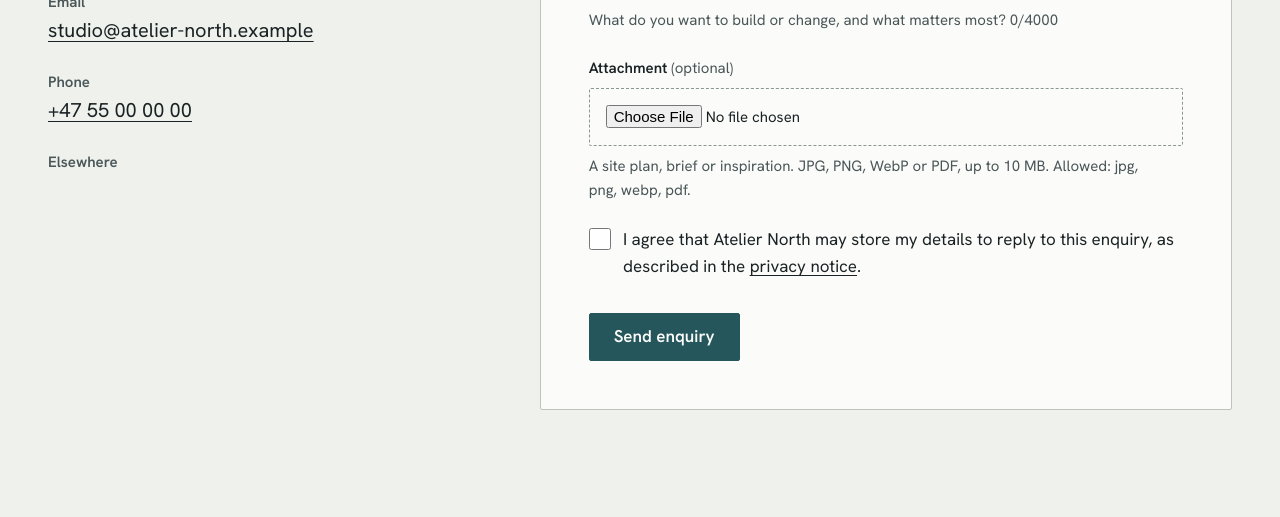
Test: Contact form › shows an error summary, marks fields invalid and focuses the summary on empty submit
(page scrolled)
Click the button "Send enquiry".
click(664, 337)  # box [589,313,740,361]
(page scrolled)
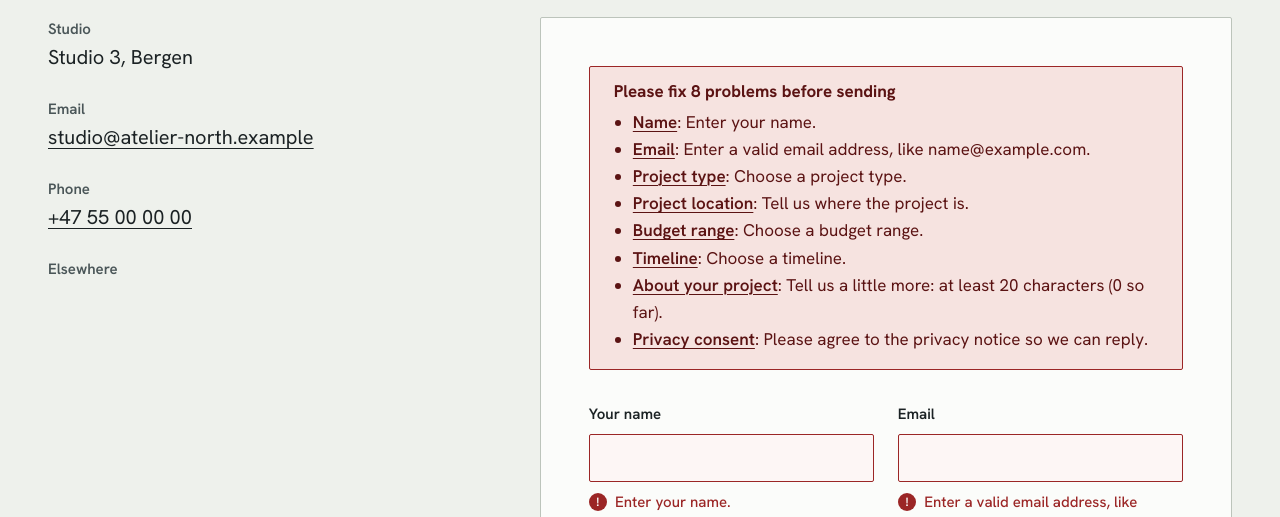
Result: the message shows "Please fix 8 problems" at [589,66,1183,370]
